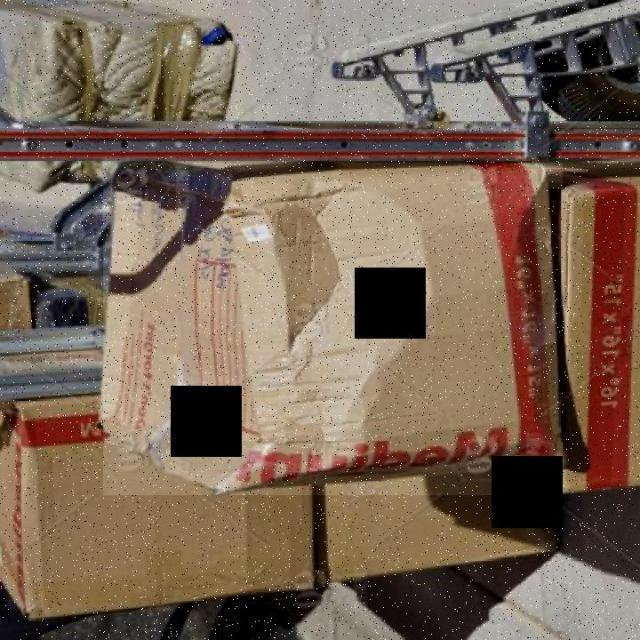box: (103, 162, 563, 496)
